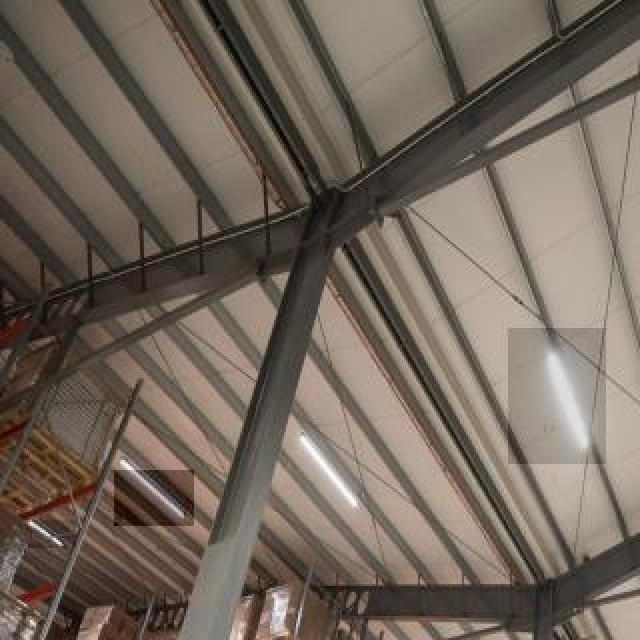fluorescent tube: (531, 331, 591, 460), (291, 421, 373, 515), (109, 474, 192, 523), (430, 632, 526, 640)
